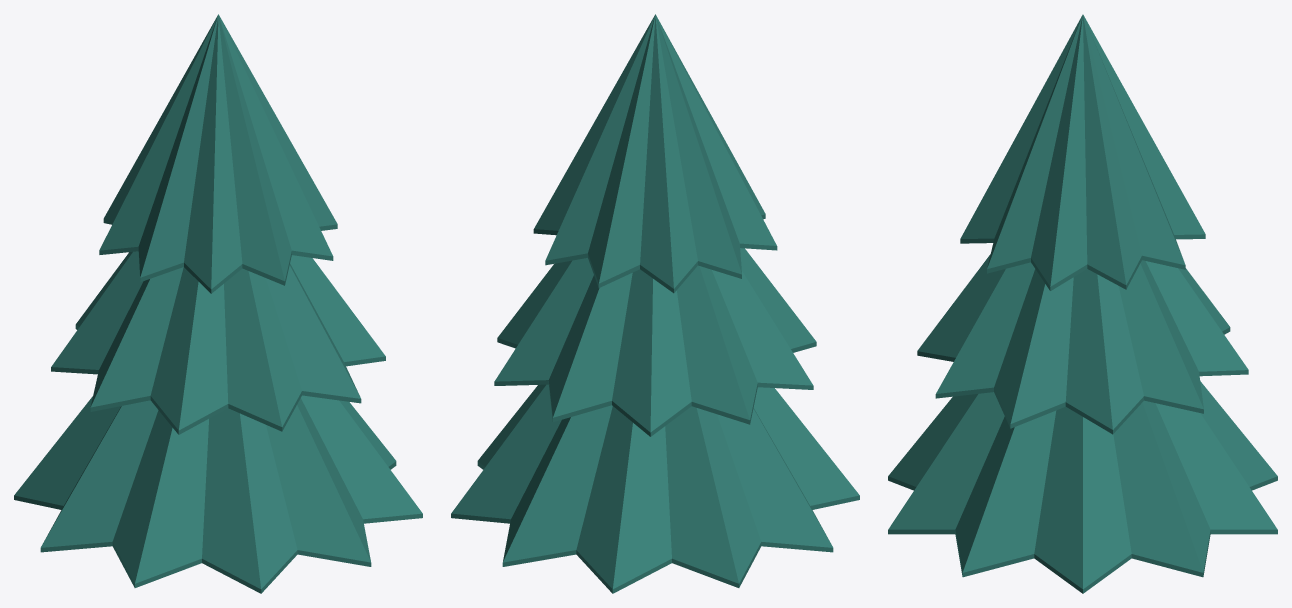
3 renders of one model, left to right at view 1: azimuth 30°, elevation 25°; view 2: azimuth 150°, elevation 25°; view 3: azimuth 270°, elevation 25°, orthographic.
Parts seen in each view (by area): view 1: 三层折叶树冠_4.001; view 2: 三层折叶树冠_4.001; view 3: 三层折叶树冠_4.001.
Boxes of the visible parts, x1,y1,x2,y2 form: 三层折叶树冠_4.001: [14, 14, 422, 593]; 三层折叶树冠_4.001: [451, 14, 859, 593]; 三层折叶树冠_4.001: [888, 14, 1277, 593].
Size of the model in its own units: 0.66 by 0.877 by 0.6277.
